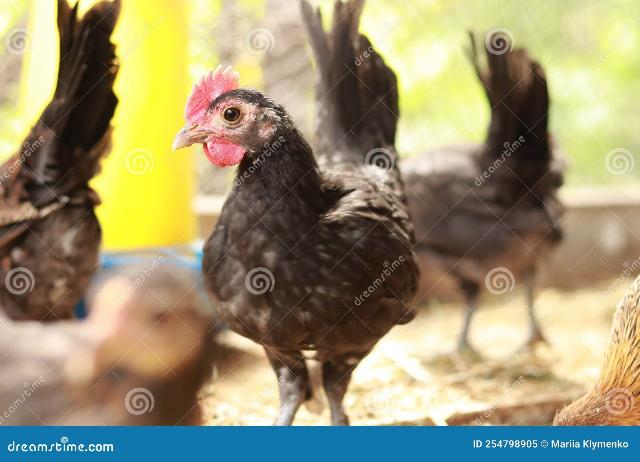Chicken: (171, 0, 421, 423), (402, 29, 568, 358), (0, 2, 123, 322), (1, 266, 211, 427)
